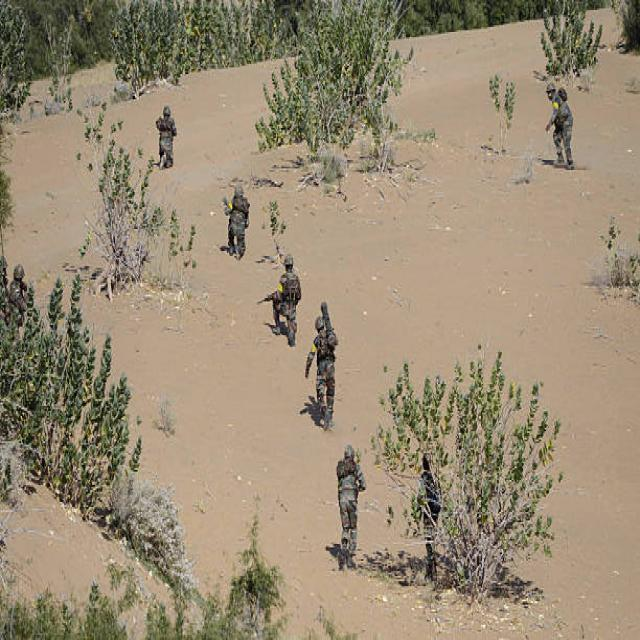soldier: (305, 303, 337, 428), (336, 445, 365, 568), (260, 256, 300, 345), (416, 455, 440, 579), (223, 185, 250, 258), (156, 106, 177, 170)
